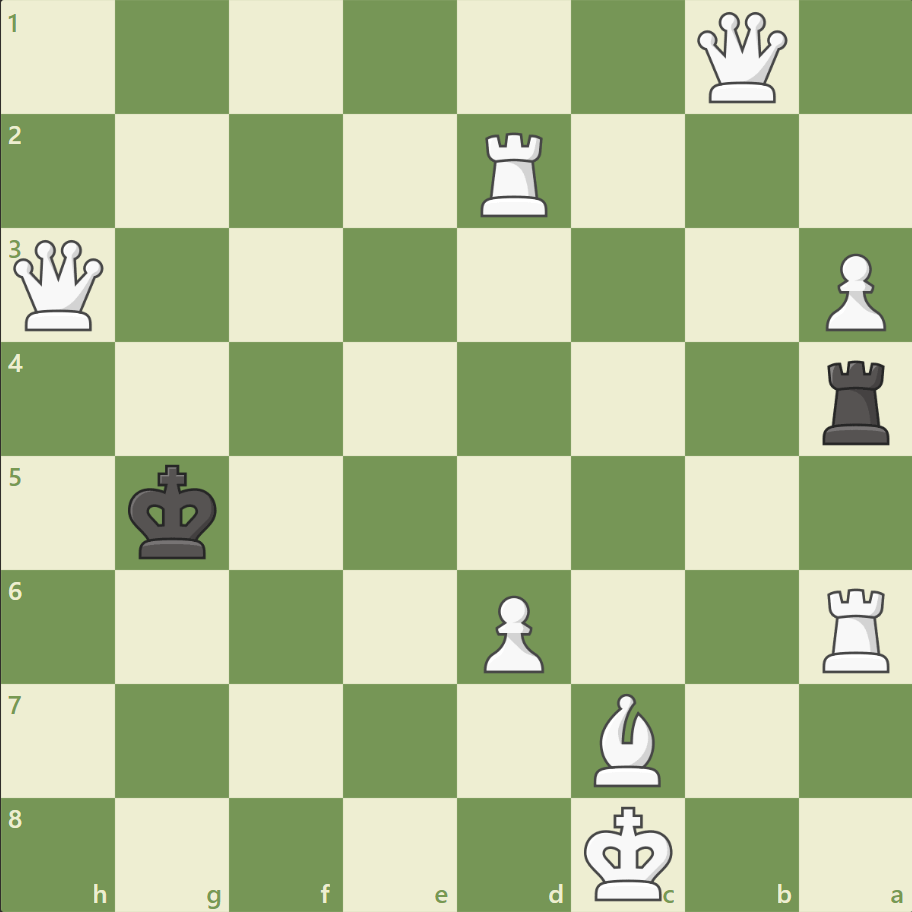B: (585, 687, 669, 790)
K: (579, 798, 679, 906)
P: (474, 586, 549, 677), (815, 246, 889, 337)
Q: (10, 236, 109, 335), (691, 9, 790, 108)
R: (814, 579, 897, 676), (473, 125, 556, 222)
k: (124, 458, 224, 566)
r: (814, 352, 897, 449)
